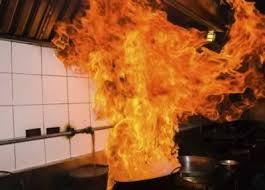fire: (47, 8, 256, 171)
